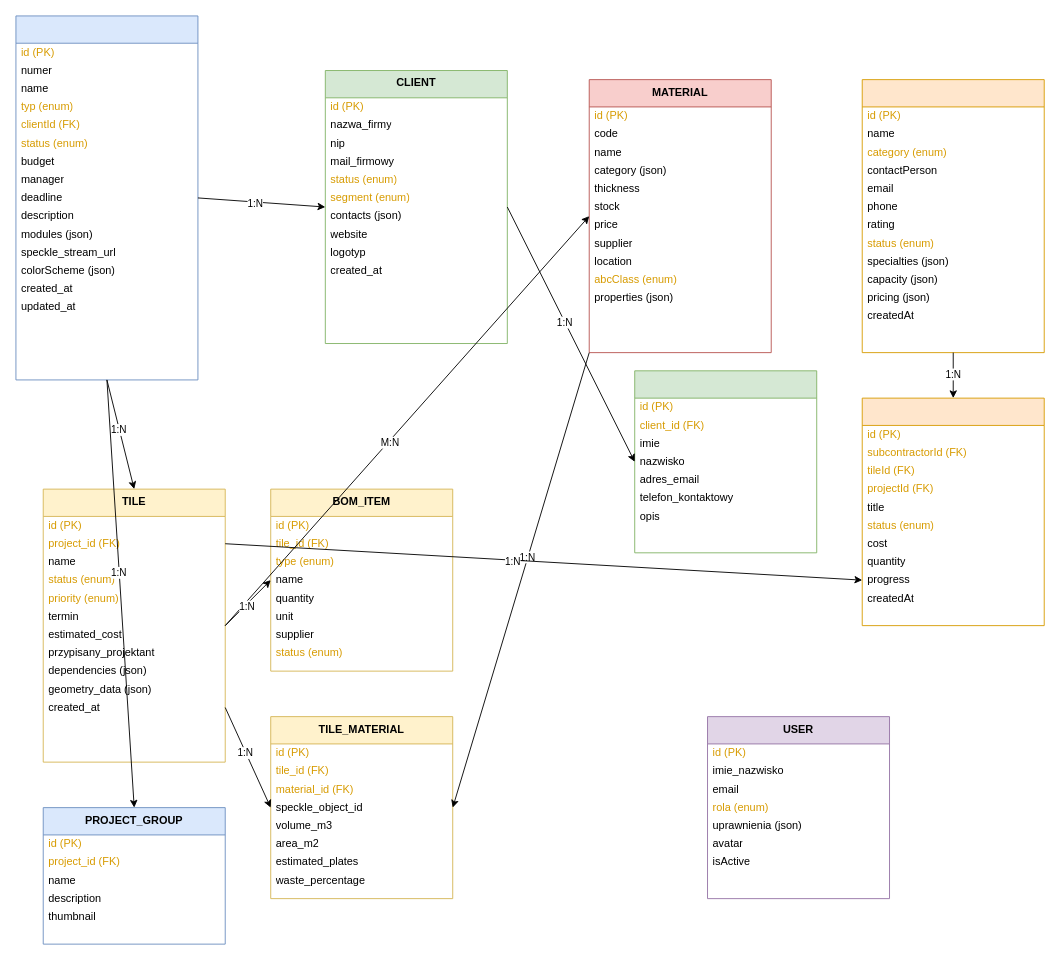
Image size: 1060x960. Some labels were removed from this diagram. Here are the shapes that lost their labels. From the top down, the box of each, then its label:
(15, 15, 198, 380): PROJECT
(861, 79, 1044, 353): SUBCONTRACTOR
(634, 370, 817, 553): CONTACT_PERSON
(861, 397, 1044, 626): SUBCONTRACTOR_ORDER
